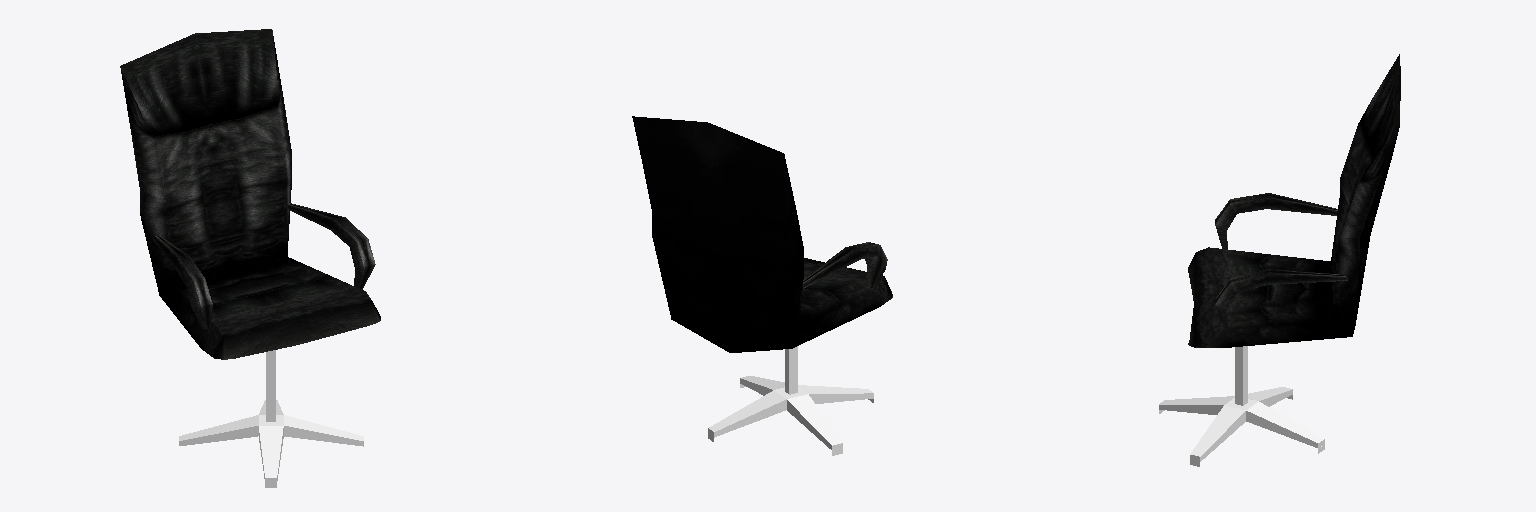
3 renders of one model, left to right at view 1: azimuth 30°, elevation 25°; view 2: azimuth 150°, elevation 25°; view 3: azimuth 270°, elevation 25°, orthographic.
Parts seen in each view (by area): view 1: kb_swivelchair1; view 2: kb_swivelchair1; view 3: kb_swivelchair1.
Part boxes in pixels (x1,y1,x2,y2): kb_swivelchair1: (120, 29, 380, 487); kb_swivelchair1: (632, 116, 892, 455); kb_swivelchair1: (1159, 54, 1400, 466).
Bounding box in the file's own units: 0.6422 × 1.2 × 0.743.
2 materials, 1 textured.